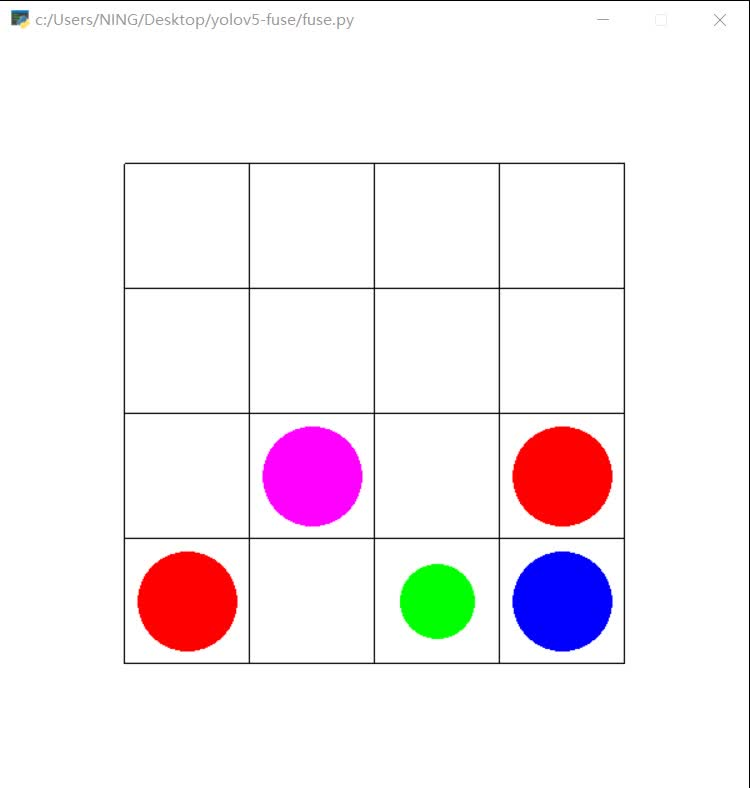destination: (512, 550, 613, 651)
obstacle: (261, 424, 363, 527), (512, 424, 613, 527), (135, 550, 238, 651)
robot: (399, 562, 474, 638)
